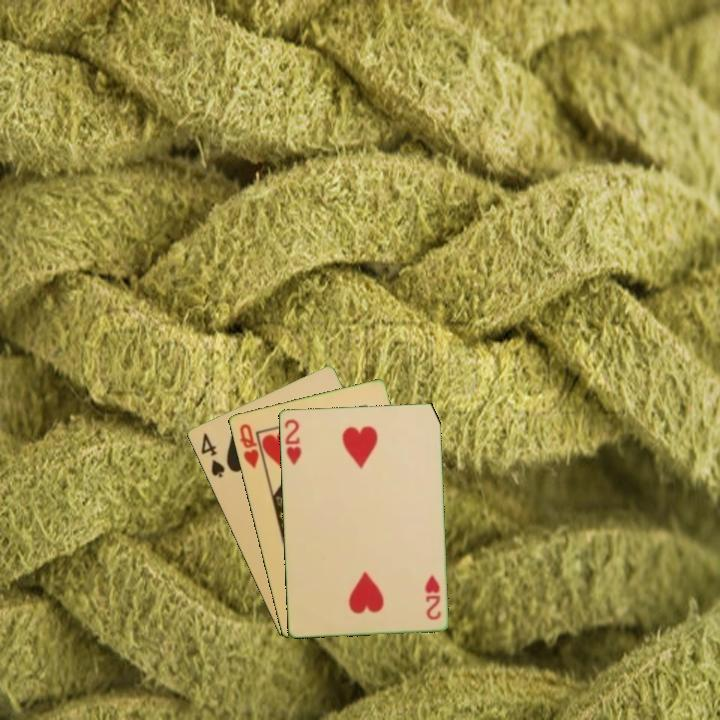2h: (281, 416, 304, 468), (421, 571, 443, 623)
4s: (197, 429, 227, 481)
Qh: (236, 420, 267, 471)
